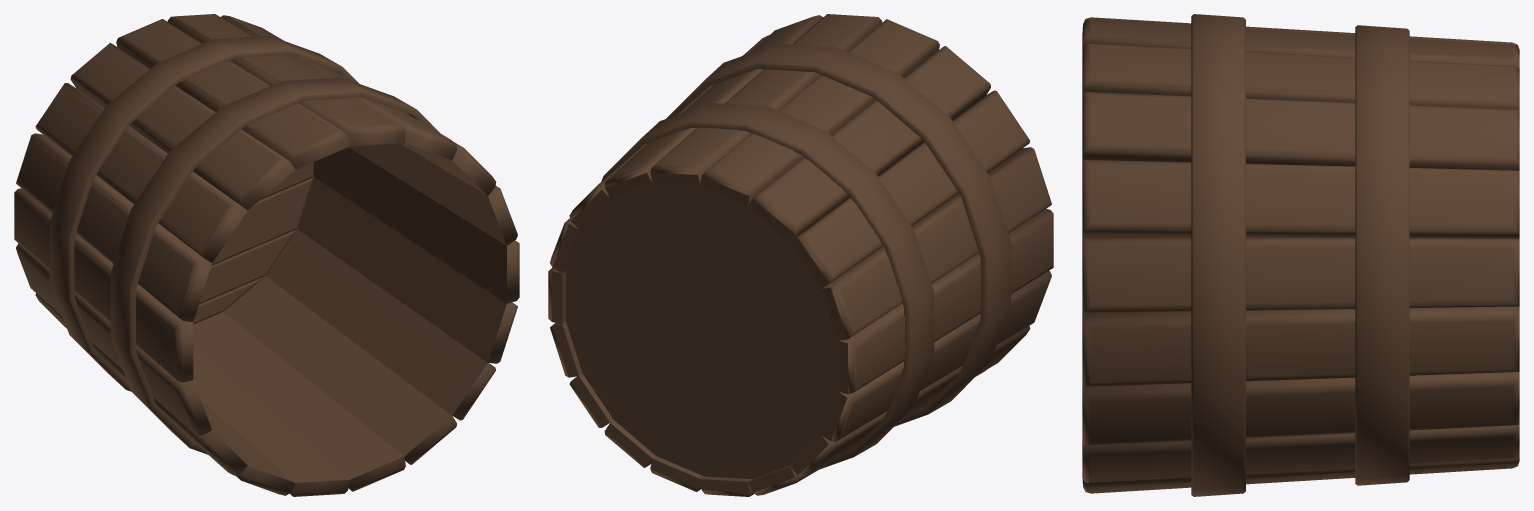
File: bucketWood.fbx
3 renders of one model, left to right at view 1: azimuth 30°, elevation 25°; view 2: azimuth 150°, elevation 25°; view 3: azimuth 270°, elevation 25°, orthographic. The views are drawn at different scales.
Visible parts, largest first — view 1: JIFwoodBucket; view 2: JIFwoodBucket; view 3: JIFwoodBucket.
Part boxes in pixels (box(x1,y1,x2,y2)): JIFwoodBucket: box(14, 14, 519, 496); JIFwoodBucket: box(548, 14, 1053, 496); JIFwoodBucket: box(1082, 14, 1519, 496).
Size of the model in its own units: 6122 by 6216 by 5611.
